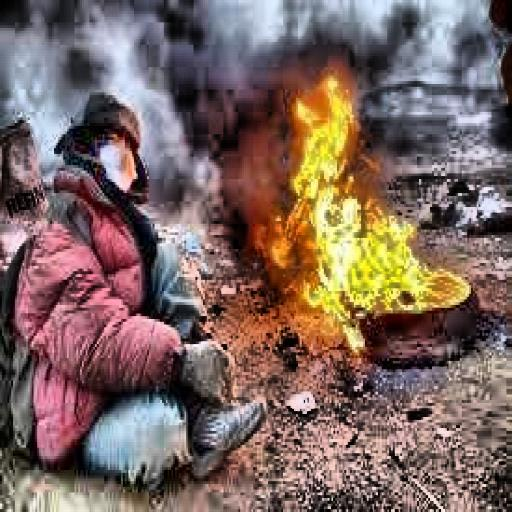fire: (258, 70, 476, 336)
